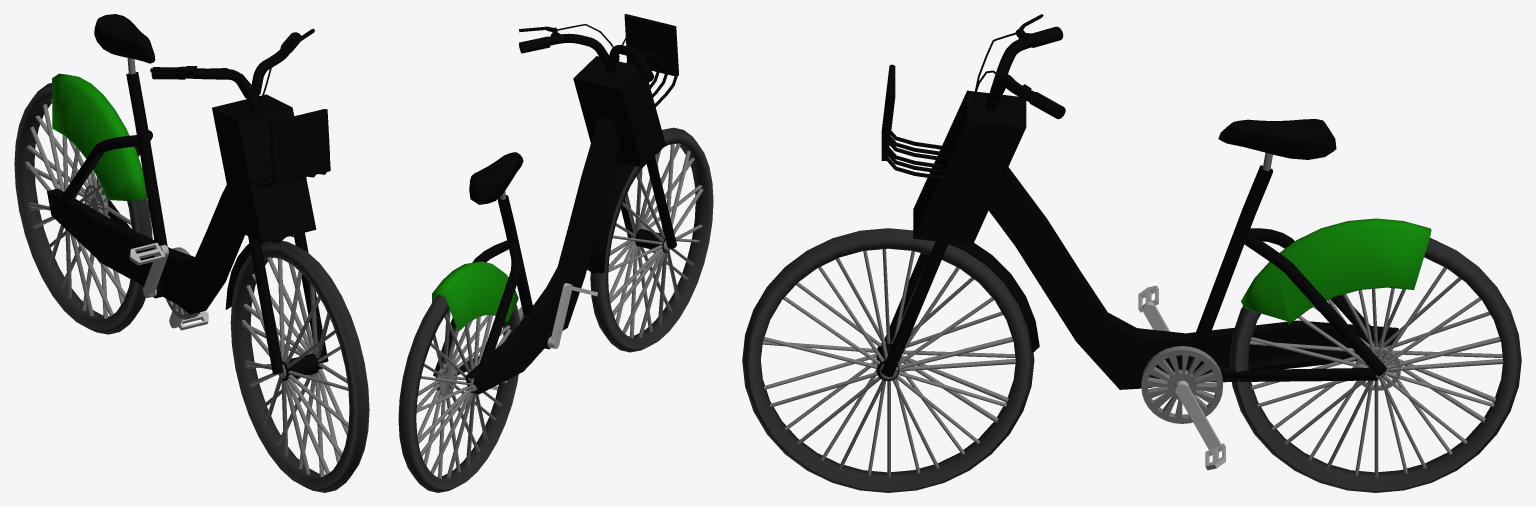
File: Bike .fbx
The picture shows the model from 3 angles, left to right: view 1: azimuth 30°, elevation 25°; view 2: azimuth 150°, elevation 25°; view 3: azimuth 270°, elevation 25°; orthographic projection. The views are drawn at different scales.
Visible parts, largest first — view 1: Body, FrontWheel, RearWheel, HandleBar, FrontJoint, Pedal; view 2: Body, FrontWheel, RearWheel, HandleBar, FrontJoint, Pedal, LeftHandGrip; view 3: Body, FrontWheel, RearWheel, FrontJoint, HandleBar, Pedal.
Boxes of the visible parts, <box> form: Body: <box>47,14,244,319</box>; FrontWheel: <box>230,240,369,492</box>; RearWheel: <box>14,83,152,334</box>; HandleBar: <box>180,38,330,374</box>; FrontJoint: <box>212,94,316,242</box>; Pedal: <box>129,242,208,330</box>; Body: <box>432,117,620,396</box>; FrontWheel: <box>590,127,713,352</box>; RearWheel: <box>398,294,520,492</box>; HandleBar: <box>542,14,678,273</box>; FrontJoint: <box>573,56,665,167</box>; Pedal: <box>490,283,597,390</box>; LeftHandGrip: <box>519,36,550,53</box>; Body: <box>988,119,1431,423</box>; FrontWheel: <box>742,228,1034,492</box>; RearWheel: <box>1229,238,1521,492</box>; FrontJoint: <box>913,90,1026,245</box>; HandleBar: <box>881,24,1041,377</box>; Pedal: <box>1138,285,1225,470</box>.
Size of the model in its own units: 38.11 by 85.82 by 139.
